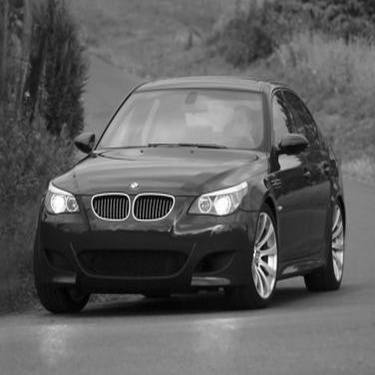car: (29, 62, 354, 321)
